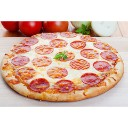pepperonipizza: (1, 31, 127, 102)
